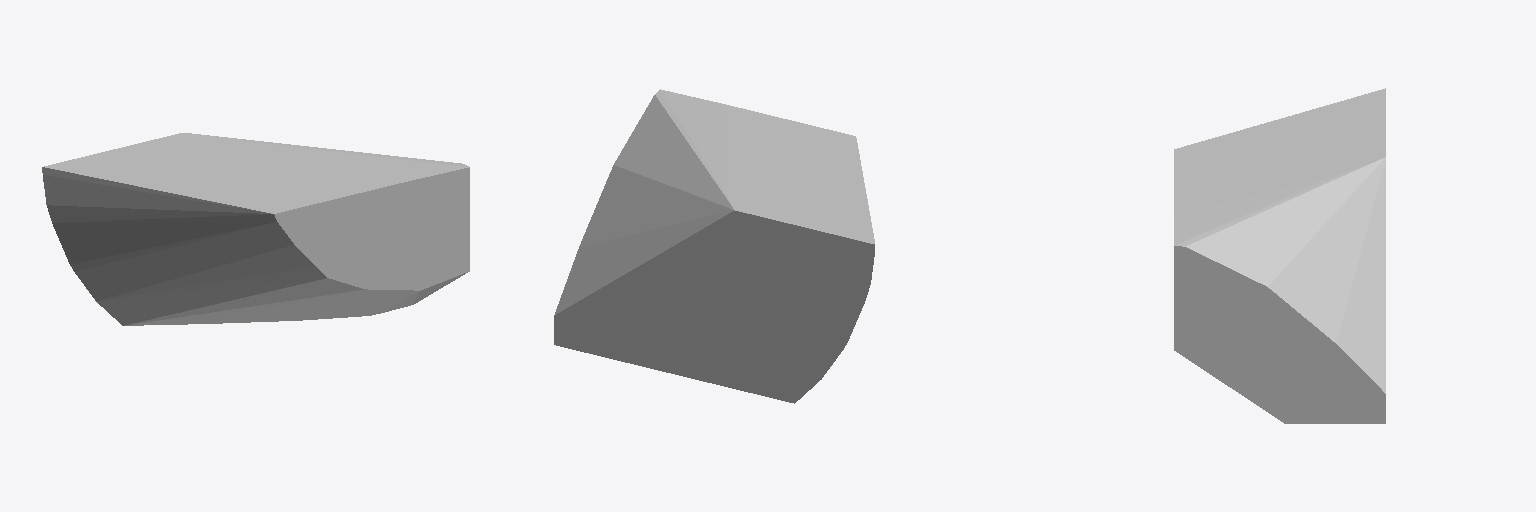
File: phantom-elastrat_collision_577.obj
The picture shows the model from 3 angles: view 1: azimuth 30°, elevation 25°; view 2: azimuth 150°, elevation 25°; view 3: azimuth 270°, elevation 25°; orthographic projection.
Bounding box in the file's own units: 0.0063 × 0.0034 × 0.0036.